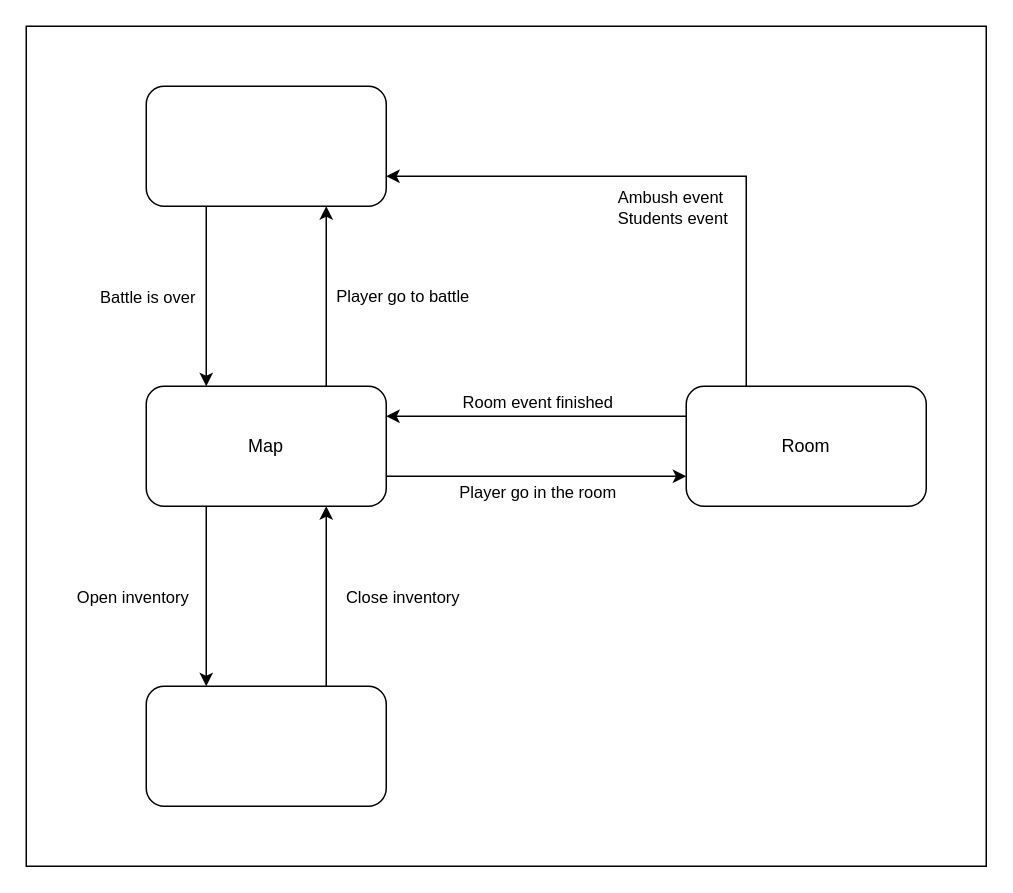
Some shapes in this 1013 by 893 pixel diagram are drawn without their labels. The shapes that lost their labels are listed below. From the top down, each one's box as (x1, y1, x2, y2) in pixels, then its label:
(145, 85, 386, 206): Battle
(145, 685, 386, 806): Inventory
